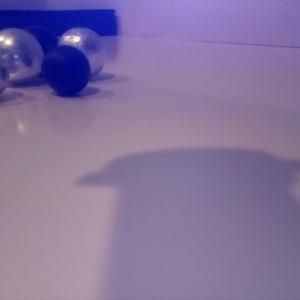alive_ball: (1, 28, 45, 84), (59, 27, 106, 77), (1, 58, 10, 96)
dead_ball: (11, 26, 59, 78), (42, 45, 90, 95)
